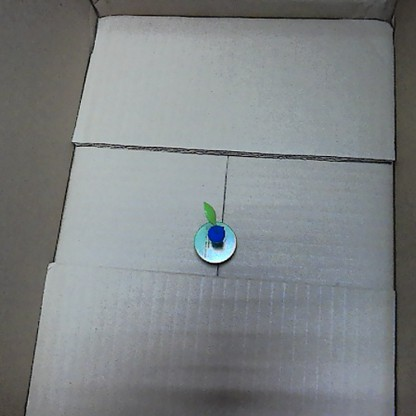leafairy: (191, 197, 239, 266)
